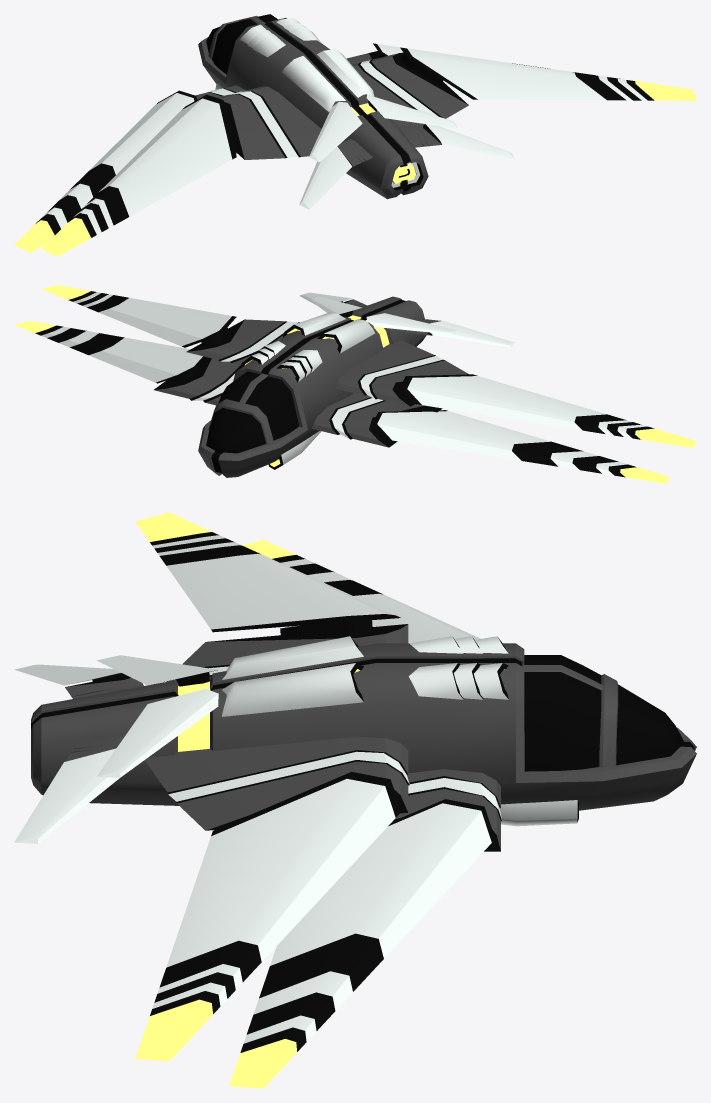
File: Ship_Model.fbx
3 renders of one model, top to bottom at view 1: azimuth 30°, elevation 25°; view 2: azimuth 150°, elevation 25°; view 3: azimuth 270°, elevation 25°, orthographic. The views are drawn at different scales.
Parts seen in each view (by area): view 1: Ship; view 2: Ship; view 3: Ship.
Part boxes in pixels (left/top/right/bottom): Ship: left=14, top=14, right=696, bottom=256; Ship: left=14, top=285, right=696, bottom=483; Ship: left=14, top=512, right=696, bottom=1088.
Bounding box in the file's own units: 22.91 × 3.19 × 12.05.
